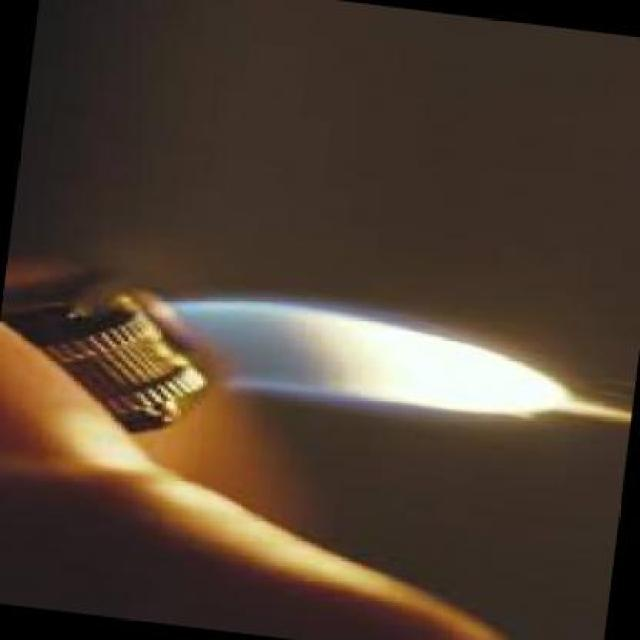Fire: (130, 270, 635, 422)
